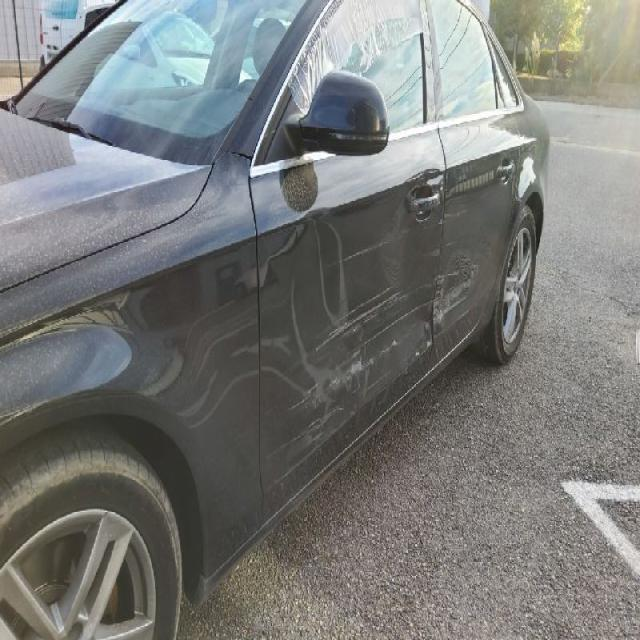porte-avant: (250, 0, 438, 528)
